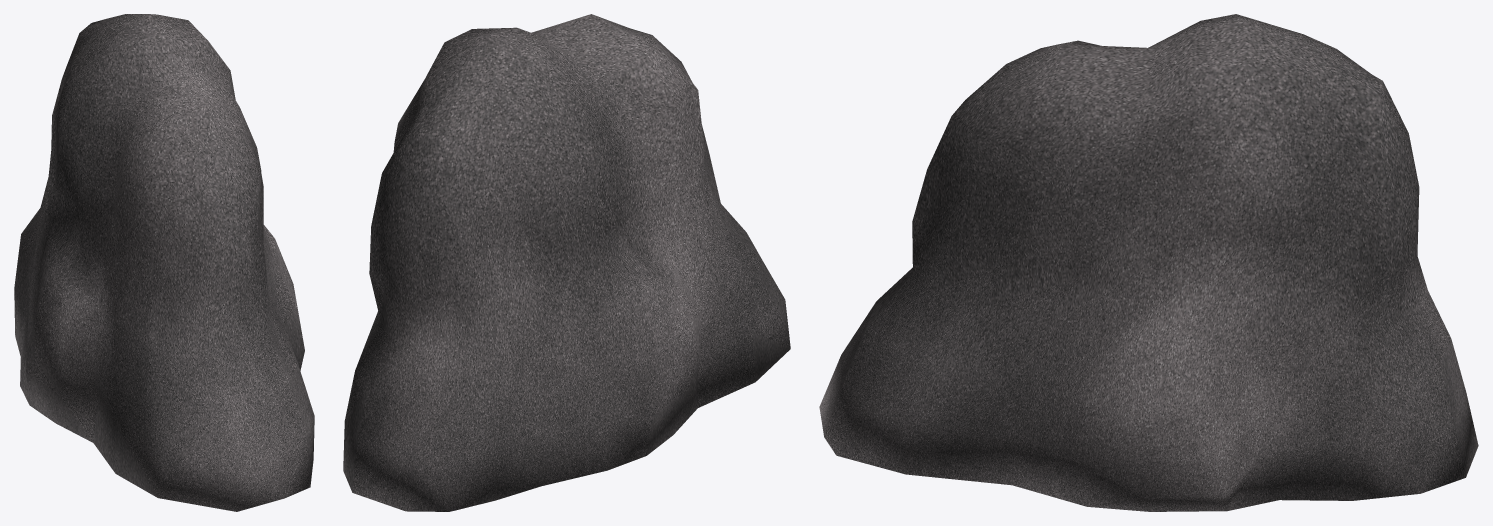
Rendered from iwa01.fbx.
3 renders of one model, left to right at view 1: azimuth 30°, elevation 25°; view 2: azimuth 150°, elevation 25°; view 3: azimuth 270°, elevation 25°, orthographic. The views are drawn at different scales.
Parts seen in each view (by area): view 1: iwa01; view 2: iwa01; view 3: iwa01.
Boxes of the visible parts, left/top/right/bottom form: iwa01: left=14, top=14, right=314, bottom=511; iwa01: left=343, top=14, right=790, bottom=511; iwa01: left=819, top=14, right=1478, bottom=511.
Bounding box in the file's own units: 20.07 × 28.27 × 38.72.
